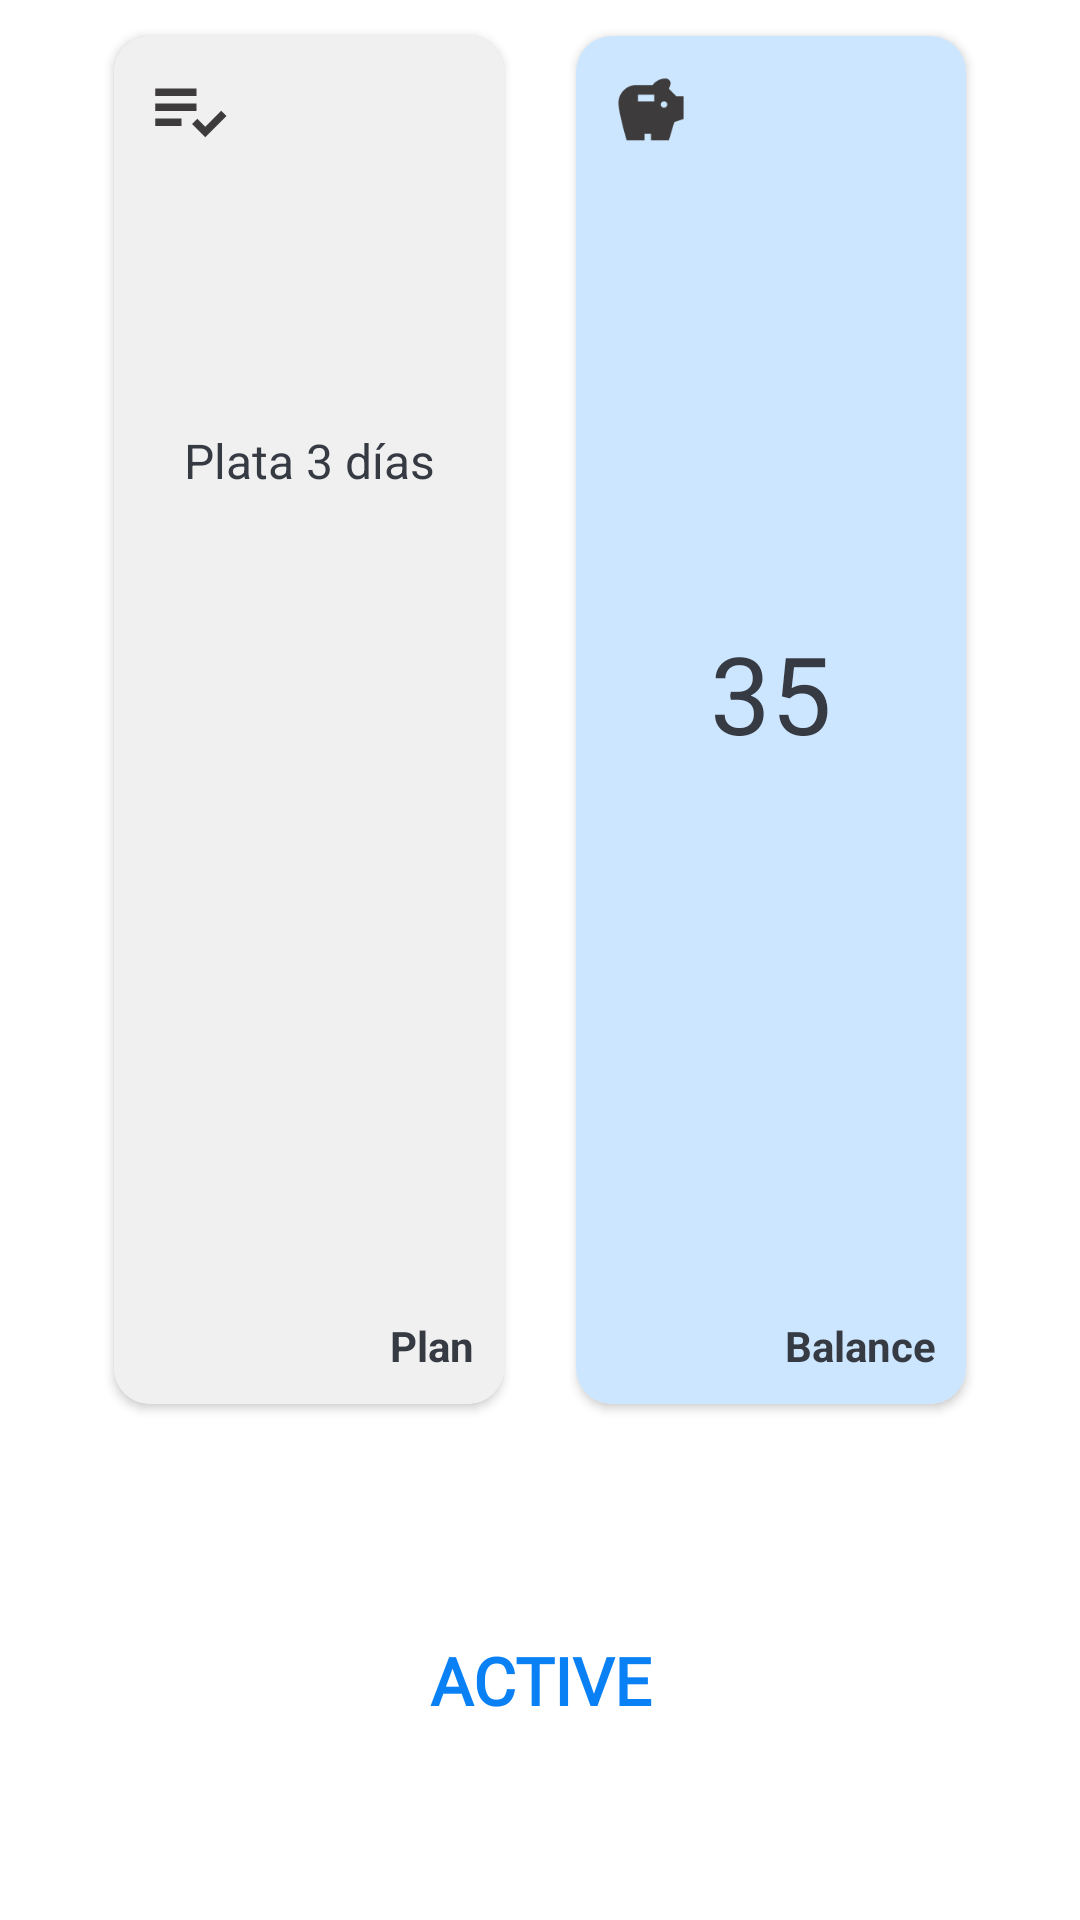

Icons on this 1080 × 1920 Android screen, each with its box as (x1, y1, x2, y2):
playlist add check: (155, 88, 226, 137)
savings: (618, 78, 684, 141)
